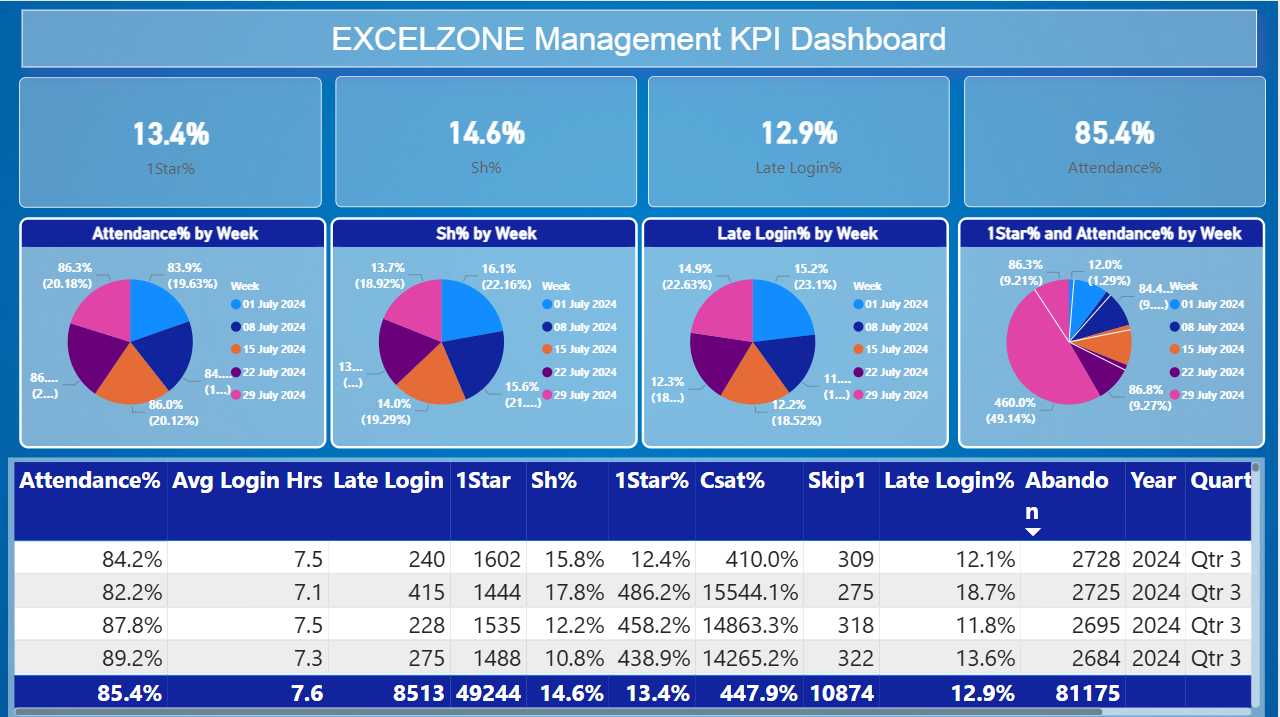

The dashboard page shown, as its layout file describes it:
{"tool":"powerbi","page":{"name":"Date Wise Summary","canvas":[1280,720],"ordinal":1},"visuals":[{"type":"tableEx","fields":{"Values":["Attendance.Attendance%","Calc.Avg Login Hrs","Calc.Late Login","Calc.1Star","Calc.Sh%","Calc.1Star%","Calc.Csat%","Calc.Skip1","Calc.Late Login%","Calc.Abandon","HC.Date.Variation.Date Hierarchy.Year","HC.Date.Variation.Date Hierarchy.Quarter"]},"box":[9.7,456,1257.1,264.2],"z":0},{"type":"pieChart","fields":{"Category":["HC.Week"],"Y":["Attendance.Attendance%"]},"box":[21.4,215.7,307.1,231.4],"z":1000},{"type":"pieChart","fields":{"Category":["HC.Week"],"Y":["Calc.Sh%"]},"box":[332.9,215.7,307.1,231.4],"z":2000},{"type":"pieChart","fields":{"Category":["HC.Week"],"Y":["Calc.Late Login%"]},"box":[644.3,215.7,307.1,231.4],"z":3000},{"type":"pieChart","fields":{"Category":["HC.Week"],"Y":["Calc.1Star%","Attendance.Attendance%"]},"box":[960,215.7,307.1,231.4],"z":4000},{"type":"card","fields":{"Values":["Calc.1Star%"]},"box":[21.2,76.2,302.5,130],"z":5000},{"type":"card","fields":{"Values":["Calc.Sh%"]},"box":[337.5,75,301.2,131.2],"z":6000},{"type":"card","fields":{"Values":["Calc.Late Login%"]},"box":[650,75,301.2,131.2],"z":7000},{"type":"card","fields":{"Values":["Attendance.Attendance%"]},"box":[966.2,75,301.2,131.2],"z":8000},{"type":"textbox","box":[23.8,8.8,1235,57.5],"z":9000}]}

Visuals, with their boxes in screenshot pixels (x1, y1, x2, y2), scaled from the page's 1280x720 canvas onto the 1280x717 screenshot:
tableEx - Attendance.Attendance% x Calc.Avg Login Hrs: l=10, t=454, r=1267, b=716
pieChart - HC.Week x Attendance.Attendance%: l=21, t=215, r=328, b=445
pieChart - HC.Week x Calc.Sh%: l=333, t=215, r=640, b=445
pieChart - HC.Week x Calc.Late Login%: l=644, t=215, r=951, b=445
pieChart - HC.Week x Calc.1Star%: l=960, t=215, r=1267, b=445
card - Calc.1Star%: l=21, t=76, r=324, b=205
card - Calc.Sh%: l=338, t=75, r=639, b=205
card - Calc.Late Login%: l=650, t=75, r=951, b=205
card - Attendance.Attendance%: l=966, t=75, r=1267, b=205
textbox: l=24, t=9, r=1259, b=66
